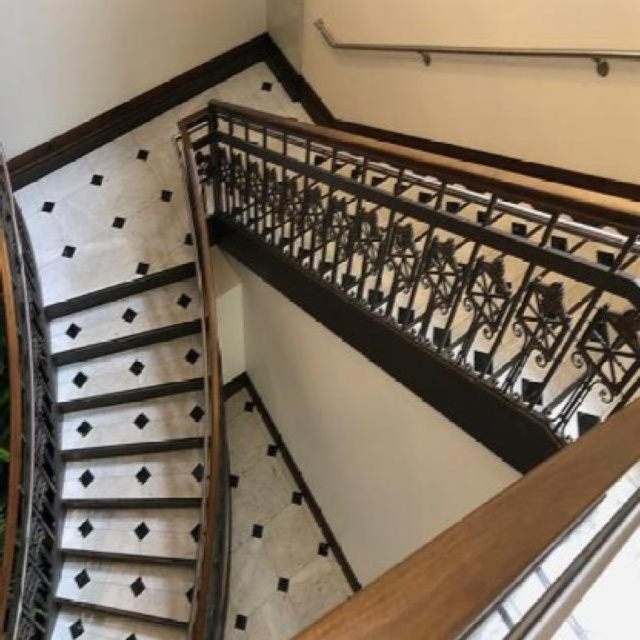stair: (0, 158, 246, 639)
